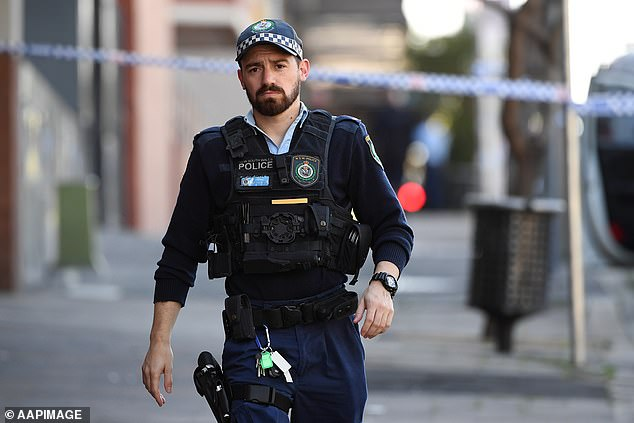Person: (143, 19, 415, 423)
